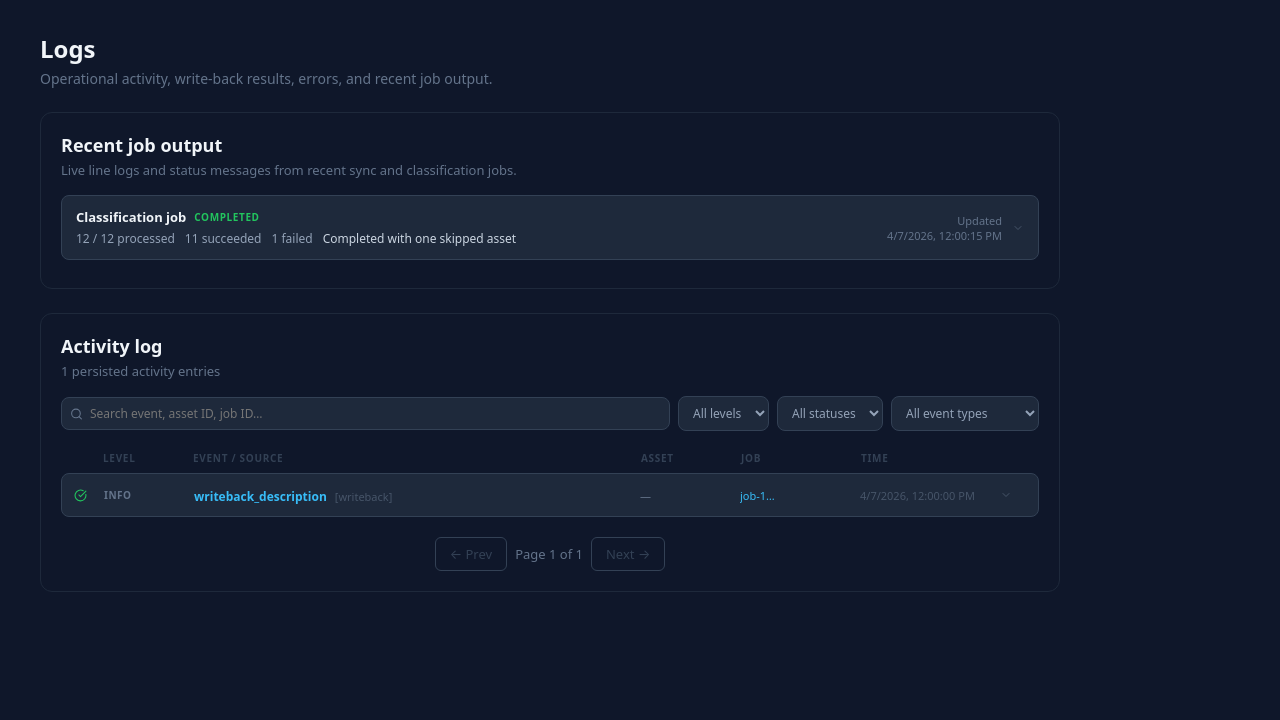
it: Logs page › shows operational activity and recent job output
The image size is (1280, 720).
Expected: the heading "Logs" is shown, [40,32,96,65]
Expected: the heading "Recent job output" is shown, [61,133,222,157]
Click the text "Classification job" at (131, 217), box [76,208,186,226]
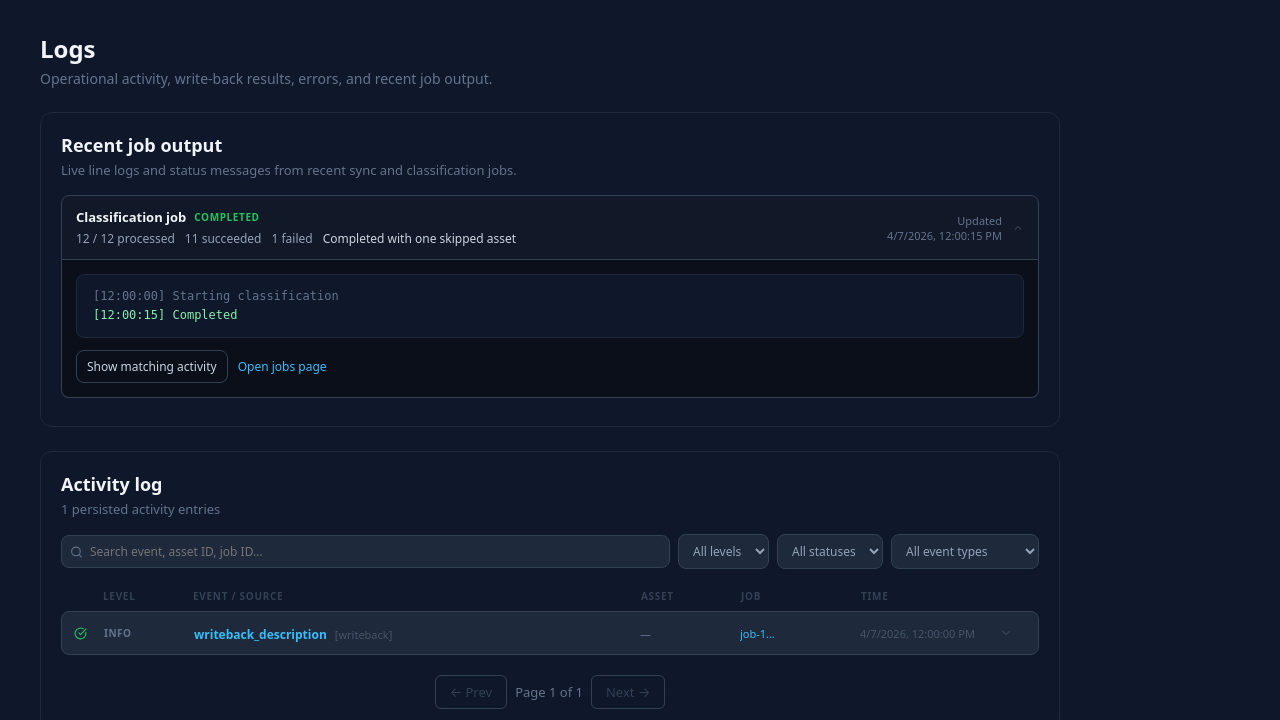
Expected: the text "[12:00:00] Starting classification" is shown, [93,289,339,303]
Expected: the button "Show matching activity" is shown, [76,350,228,383]
Expected: the link "Open jobs page" is shown, [238,358,326,375]
